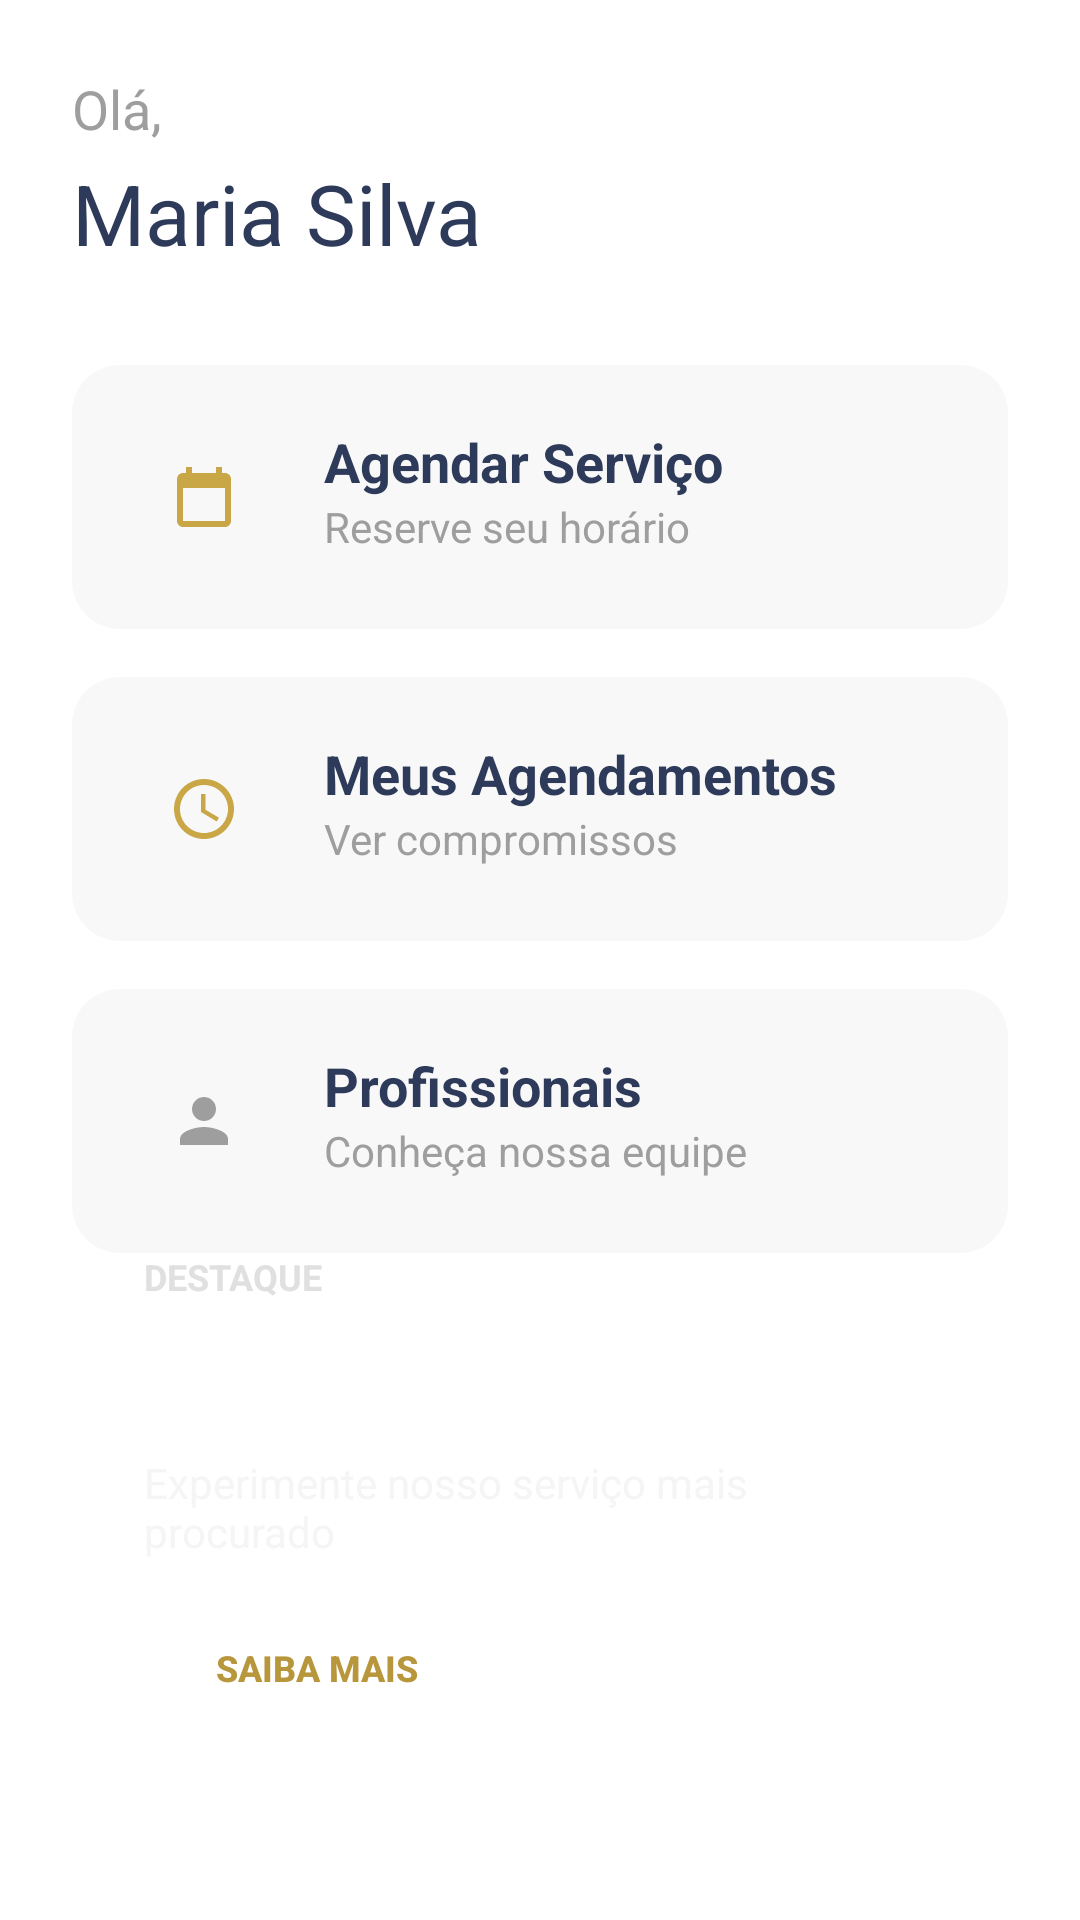

Point at icon controls on the screen. Image size 1080x1920, points as [x,y].
icon calendar: [204,497]
icon clock: [204,809]
icon person: [204,1121]
